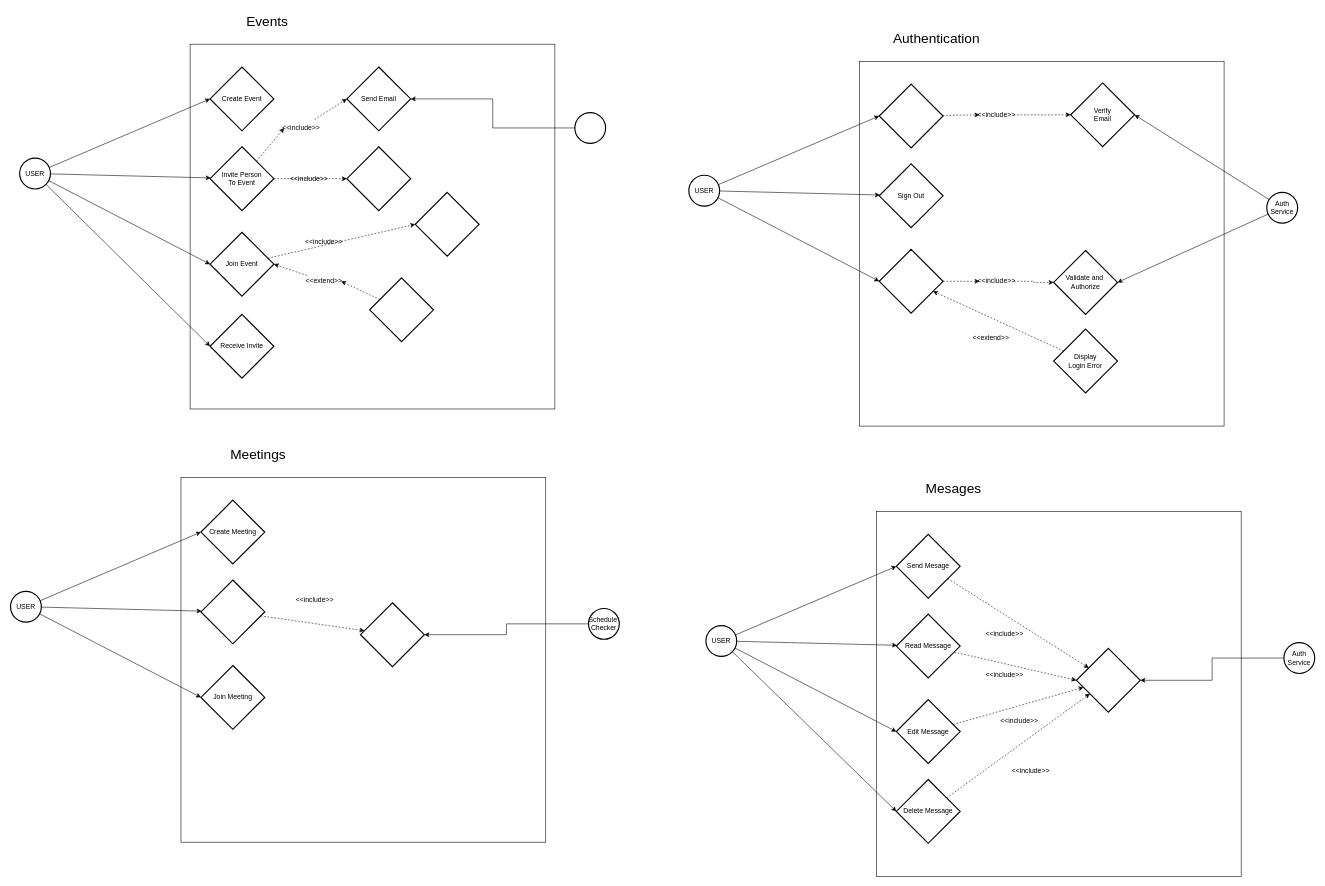
Image size: 1325x886. Some labels were removed from this diagram. The shapes that lost their labels are listed below. From the top down, each one's centre as x and y in pixels, then its label:
At (590,128): "Email Service".
At (910,115): "Sign Up".
At (378,178): "Send Notification".
At (446,224): "Validate Invite".
At (910,281): "Login".
At (401,309): "Display join Error".
At (232,611): "Schedule Meeting".
At (392,634): "Check Schedules with AI".
At (1108,680): "Validate and Authorize User".
